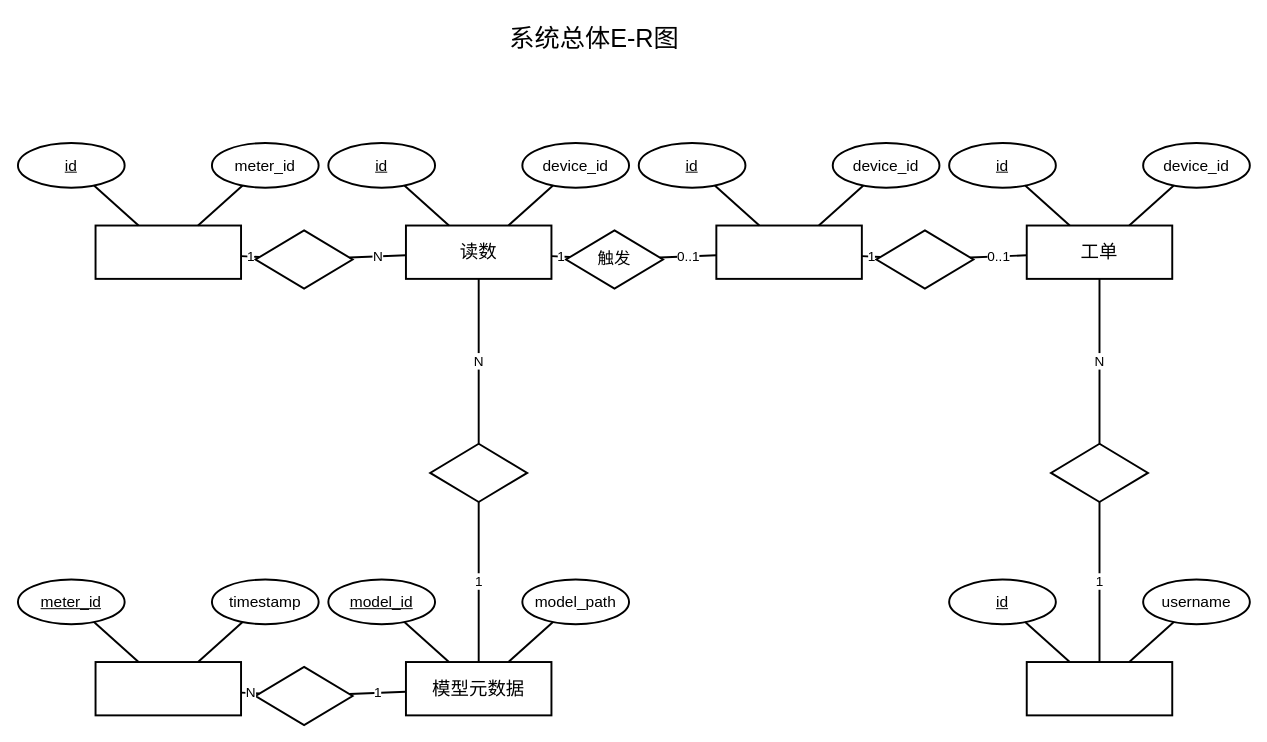
This 1267x742 diagram has some shape labels left out. The shapes that lost their labels are listed below. From the top down, each one's centre as x and y in pixels, then its label:
point (168, 251): 设备
point (303, 259): 产生
point (788, 251): 告警
point (924, 259): 生成
point (478, 472): 检测
point (1099, 472): 处理
point (168, 688): 训练数据
point (303, 695): 训练
point (1099, 688): 用户
